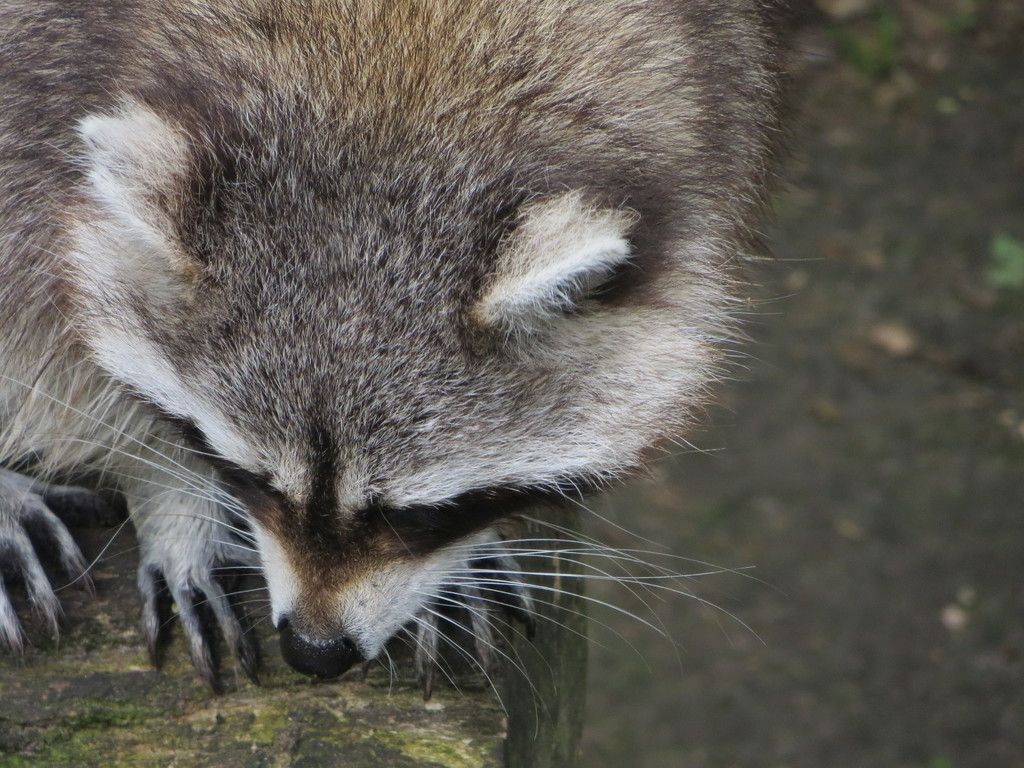raccoon: (1, 1, 781, 702)
